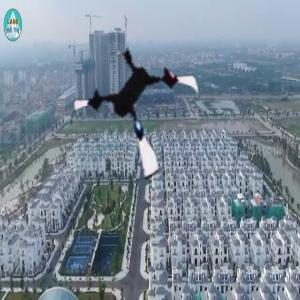drone: (68, 40, 209, 181)
